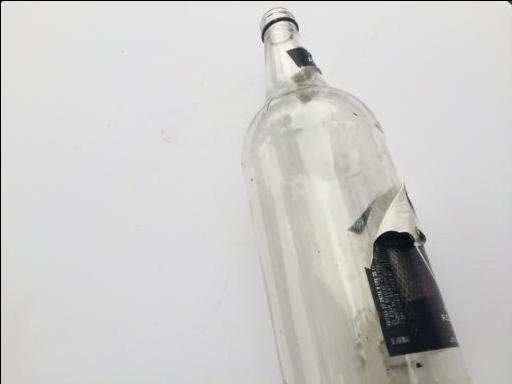alcohol: (238, 6, 475, 384)
glass: (238, 6, 475, 384)
sodocalcique: (238, 6, 475, 384)
